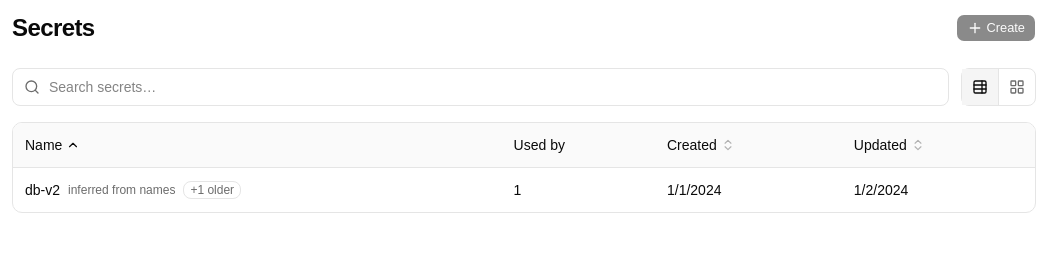
Test case: SecretList › leaves out a newer head the group fetch saw before the list did
Click the button "+1 older": (212, 190) [183, 181, 241, 199]
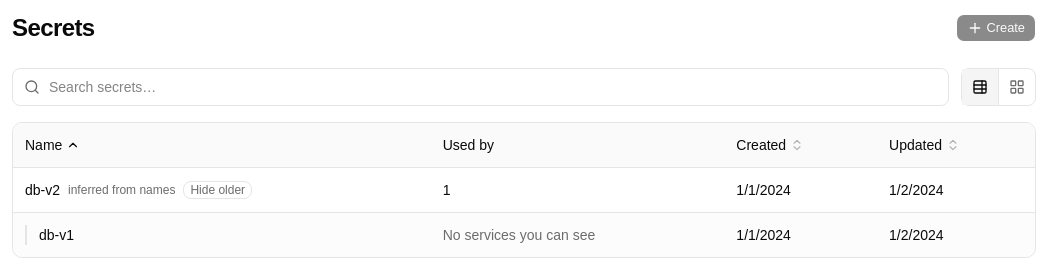
Now the text "db-v1" is shown, box [25, 225, 74, 245]
